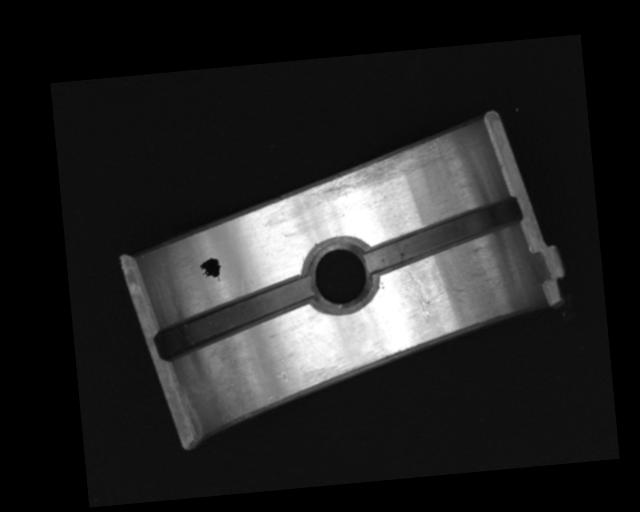blot: (197, 255, 223, 283)
bruise: (446, 285, 468, 305), (277, 369, 290, 384)
gap: (153, 273, 319, 359), (361, 196, 527, 273)
hole: (301, 232, 380, 317)
nick: (404, 263, 432, 320)
scratch: (302, 136, 448, 203)
